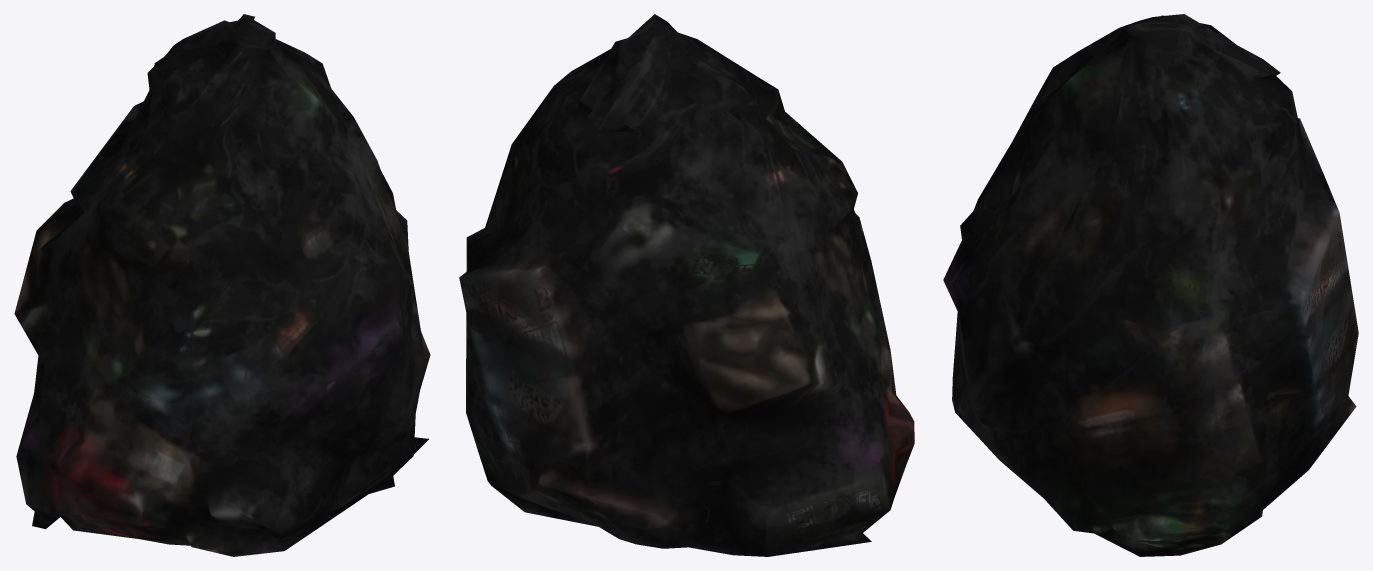
Rendered from trashbag.glb.
3 renders of one model, left to right at view 1: azimuth 30°, elevation 25°; view 2: azimuth 150°, elevation 25°; view 3: azimuth 270°, elevation 25°, orthographic. The views are drawn at different scales.
Visible parts, largest first — view 1: trashbag; view 2: trashbag; view 3: trashbag.
Boxes of the visible parts, x1,y1,x2,y2 form: trashbag: (14,14,430,556); trashbag: (459,14,914,556); trashbag: (943,14,1358,556).
Size of the model in its own units: 0.5187 by 0.5684 by 0.4629.
1 material, 1 textured.
